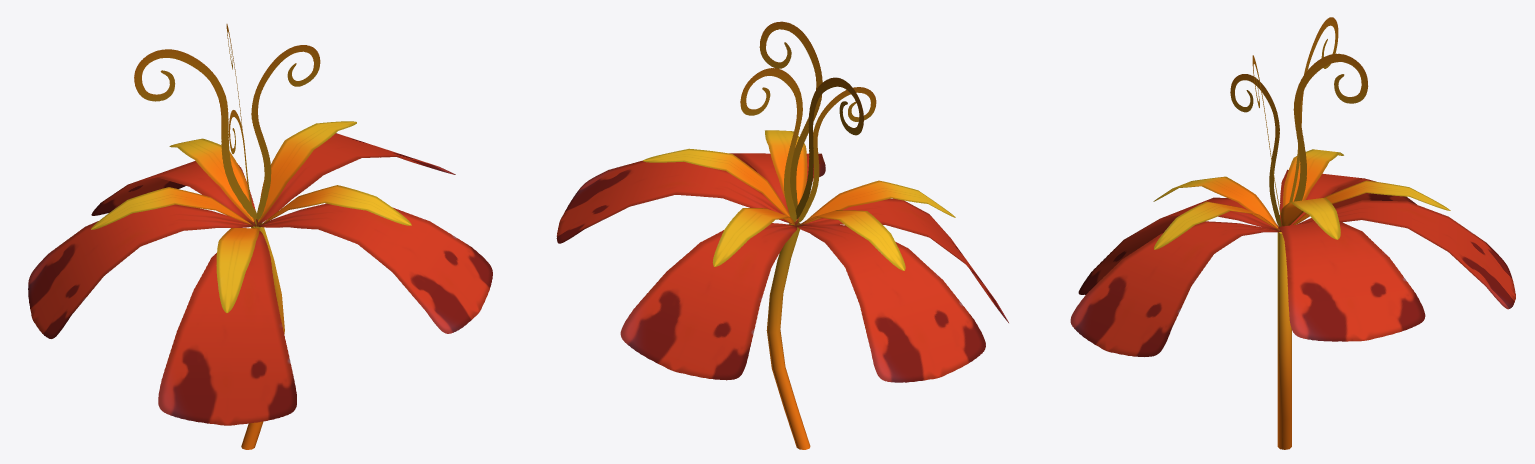
The model's file is Big_Flower.fbx.
3 views of the same model, side by side, from view 1: azimuth 30°, elevation 25°; view 2: azimuth 150°, elevation 25°; view 3: azimuth 270°, elevation 25° (orthographic).
Visible parts, largest first — view 1: Plane.078; view 2: Plane.078; view 3: Plane.078.
Boxes of the visible parts, x1,y1,x2,y2 form: Plane.078: (28, 24, 492, 449); Plane.078: (556, 21, 1008, 449); Plane.078: (1070, 17, 1515, 449).
Bounding box in the file's own units: 68.3 × 62.47 × 63.86.
Materials: 1 (1 with a texture image).
